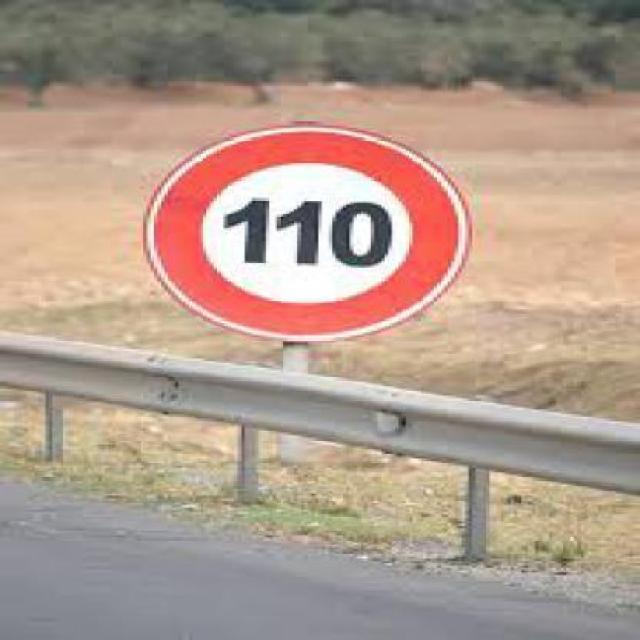speed limit 110: (144, 123, 473, 343)
